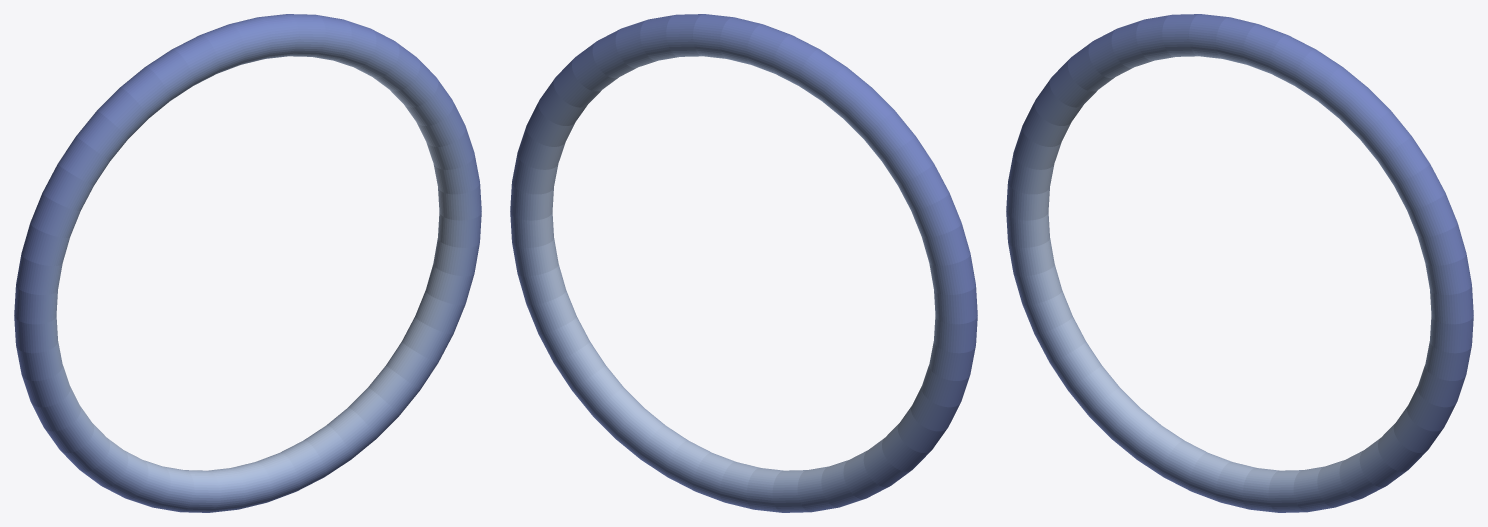
The picture shows the model from 3 angles, left to right: view 1: azimuth 30°, elevation 25°; view 2: azimuth 150°, elevation 25°; view 3: azimuth 330°, elevation 25°; orthographic projection.
Visible parts, largest first — view 1: world; view 2: world; view 3: world.
Part boxes in pixels (x1,y1,x2,y2): world: [14, 14, 481, 512]; world: [510, 14, 977, 512]; world: [1006, 14, 1473, 512].
Size of the model in its own units: 31.87 by 31.8 by 2.53.
